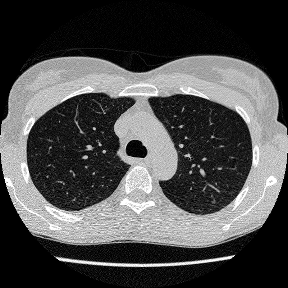nodule: (212, 200, 216, 204)
